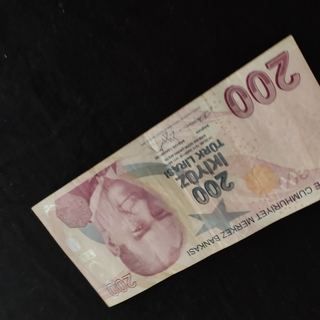200TLFront: (31, 34, 320, 307)
